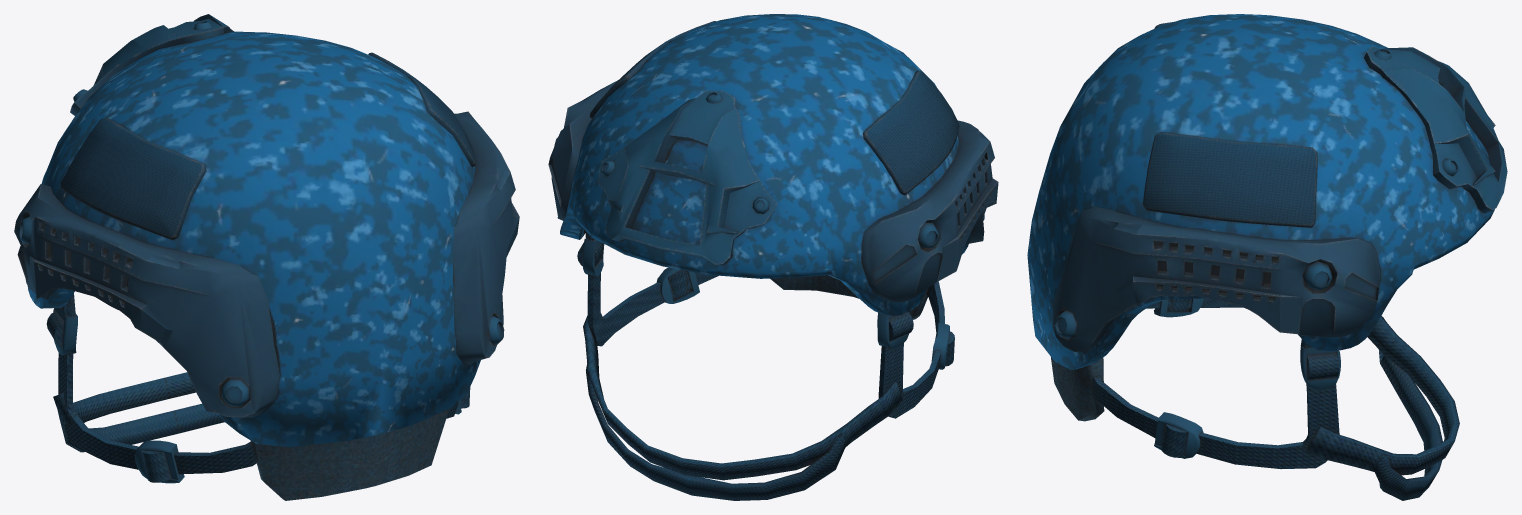
Rendered from nox-helmet-un.glb.
3 renders of one model, left to right at view 1: azimuth 30°, elevation 25°; view 2: azimuth 150°, elevation 25°; view 3: azimuth 270°, elevation 25°, orthographic. The views are drawn at different scales.
Visible parts, largest first — view 1: helmetBase.001, Side.001, Patch.001, BackCushion.001, FrontStrap.001, Plane.001, FrontAttachment.001, Plane.005, Bolt.002, Plane.006, Plane.002; view 2: helmetBase.001, Side.001, FrontAttachment.001, FrontStrap.001, Patch.001, Plane.001, BackCushion.001, Plane.005, Plane.002, Plane.003, Plane.006; view 3: helmetBase.001, Side.001, Patch.001, FrontAttachment.001, FrontStrap.001, Plane.001, BackCushion.001, Plane.005, Plane.006, Plane.003, Plane.002, Bolt.003.
Boxes of the visible parts, x1,y1,x2,y2 form: helmetBase.001: (27, 31, 480, 447); Side.001: (14, 111, 519, 417); Patch.001: (60, 52, 475, 240); BackCushion.001: (251, 409, 449, 500); FrontStrap.001: (53, 372, 224, 452); Plane.001: (58, 315, 457, 474); FrontAttachment.001: (70, 14, 233, 115); Plane.005: (135, 398, 461, 483); Bolt.002: (221, 315, 504, 406); Plane.006: (142, 387, 470, 482); Plane.002: (53, 308, 77, 355); helmetBase.001: (560, 14, 970, 315); Side.001: (548, 80, 998, 301); FrontAttachment.001: (598, 90, 777, 265); FrontStrap.001: (583, 315, 902, 500); Patch.001: (589, 21, 959, 195); Plane.001: (587, 239, 944, 418); BackCushion.001: (770, 275, 928, 319); Plane.005: (656, 267, 949, 369); Plane.002: (582, 238, 909, 348); Plane.003: (577, 242, 913, 340); Plane.006: (662, 267, 954, 366); helmetBase.001: (1027, 14, 1494, 370); Side.001: (1052, 207, 1380, 353); Patch.001: (1142, 22, 1317, 227); FrontAttachment.001: (1364, 46, 1507, 213); FrontStrap.001: (1305, 316, 1459, 500); Plane.001: (1092, 298, 1339, 469); BackCushion.001: (1051, 357, 1104, 421); Plane.005: (1154, 298, 1203, 458); Plane.006: (1161, 299, 1189, 457); Plane.003: (1307, 352, 1339, 379); Plane.002: (1300, 346, 1340, 390); Bolt.003: (1303, 261, 1332, 290).
Size of the model in its own units: 1.58 by 1.52 by 1.53.
1 material, 1 textured.
